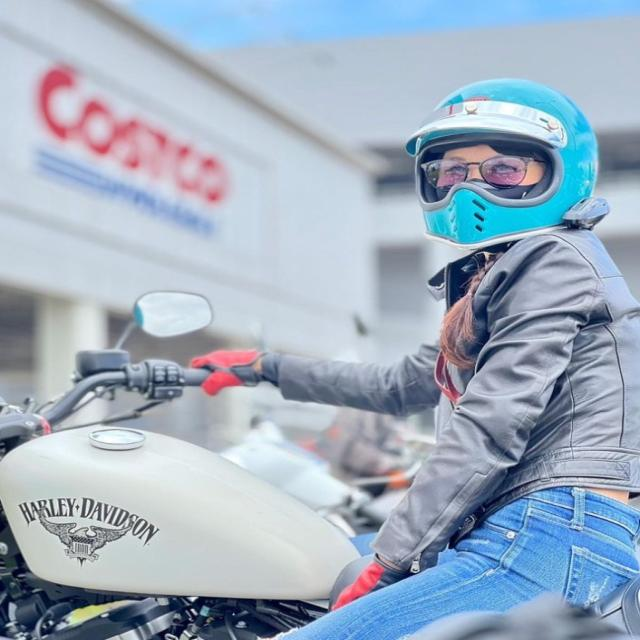helmet: (397, 75, 610, 253)
